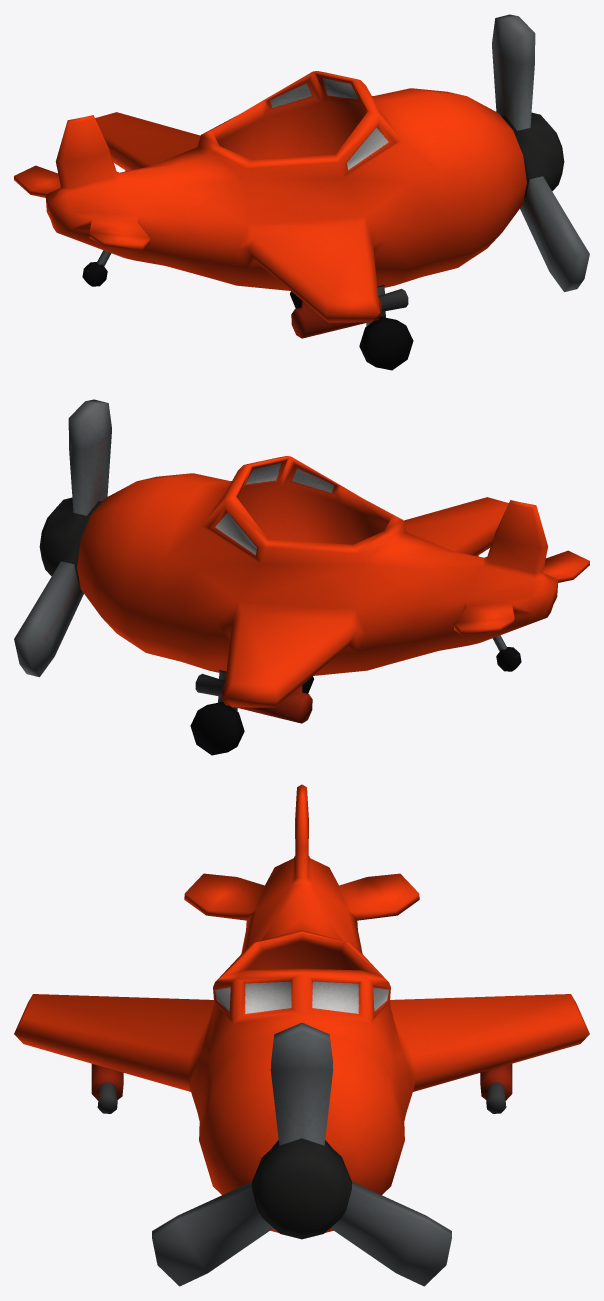
3 views of the same model, one above another, from view 1: azimuth 30°, elevation 25°; view 2: azimuth 150°, elevation 25°; view 3: azimuth 270°, elevation 25° (orthographic). The views are drawn at different scales.
Parts seen in each view (by area): view 1: PlaneBase; view 2: PlaneBase; view 3: PlaneBase.
Part boxes in pixels (x1,y1,x2,y2): PlaneBase: (14,14,589,370); PlaneBase: (14,399,589,755); PlaneBase: (14,784,589,1286).
Size of the model in its own units: 26384 by 14517 by 23837.
